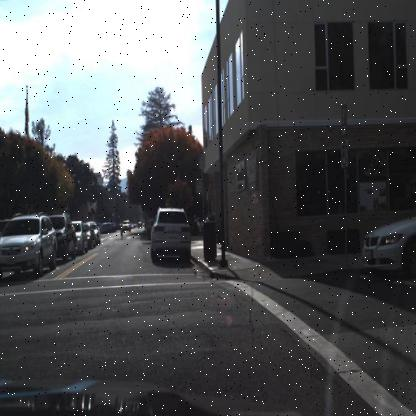car: (362, 209, 416, 271), (149, 206, 191, 266), (52, 214, 76, 262), (72, 221, 86, 257), (85, 222, 95, 248), (100, 222, 118, 233), (93, 221, 100, 247), (122, 218, 130, 230)
